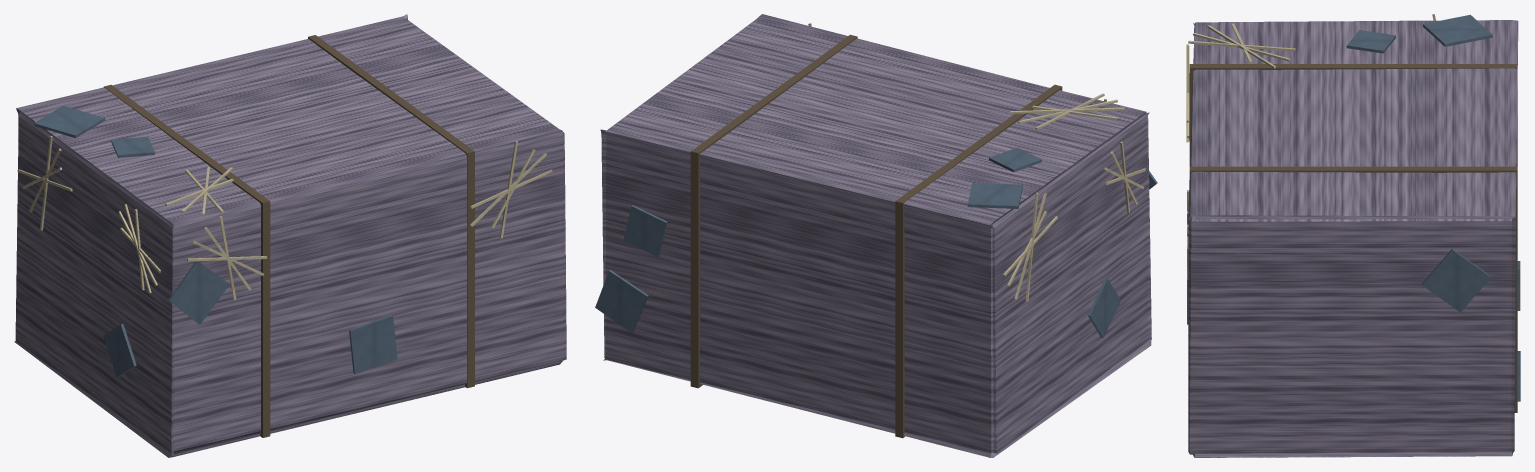
Rendered from bale_haunted.glb.
3 views of the same model, side by side, from view 1: azimuth 30°, elevation 25°; view 2: azimuth 150°, elevation 25°; view 3: azimuth 270°, elevation 25° (orthographic). The views are drawn at different scales.
Visible parts, largest first — view 1: BaleHaunted; view 2: BaleHaunted; view 3: BaleHaunted.
Boxes of the visible parts, bbox=[...] form: BaleHaunted: bbox=[14, 14, 566, 457]; BaleHaunted: bbox=[595, 14, 1157, 457]; BaleHaunted: bbox=[1186, 14, 1520, 457].
Bounding box in the file's own units: 1.31 × 0.7484 × 0.9201.
4 materials, 3 textured.
